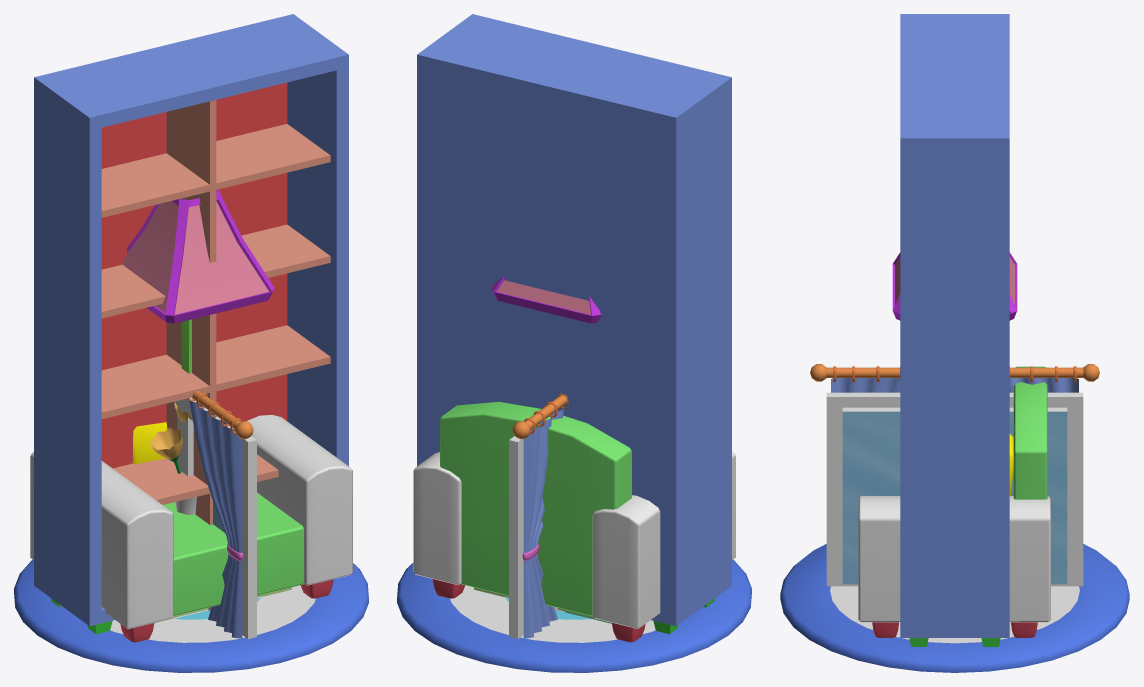
File: oda_guncelleme.fbx
3 views of the same model, side by side, from view 1: azimuth 30°, elevation 25°; view 2: azimuth 150°, elevation 25°; view 3: azimuth 270°, elevation 25° (orthographic).
Visible parts, largest first — view 1: Cube.011, Cube.012, koltuk, hali, lamba, Plane, pencere, vazo, yastik, Icosphere.001; view 2: Cube.011, koltuk, hali, Plane, pencere, lamba, Icosphere.001; view 3: Cube.011, pencere, hali, koltuk, Icosphere.001, Plane, lamba.
Part boxes in pixels (x1,y1,x2,y2): Cube.011: [34, 14, 348, 634]; Cube.012: [101, 100, 330, 524]; koltuk: [30, 415, 352, 642]; hali: [14, 559, 368, 672]; lamba: [122, 189, 274, 618]; Plane: [188, 398, 242, 638]; pencere: [173, 397, 256, 639]; vazo: [150, 402, 196, 514]; yastik: [132, 422, 167, 463]; Icosphere.001: [191, 390, 253, 439]; Cube.011: [417, 14, 731, 634]; koltuk: [413, 401, 735, 642]; hali: [397, 559, 751, 672]; Plane: [523, 406, 563, 638]; pencere: [509, 428, 557, 639]; lamba: [491, 275, 601, 611]; Icosphere.001: [512, 395, 567, 439]; Cube.011: [900, 14, 1009, 646]; pencere: [826, 392, 1083, 586]; hali: [780, 544, 1129, 672]; koltuk: [858, 366, 1050, 637]; Icosphere.001: [810, 364, 1099, 381]; Plane: [831, 378, 1078, 392]; lamba: [892, 252, 1017, 320].
Bounding box in the file's own units: 6.41 × 10.81 × 6.41.
